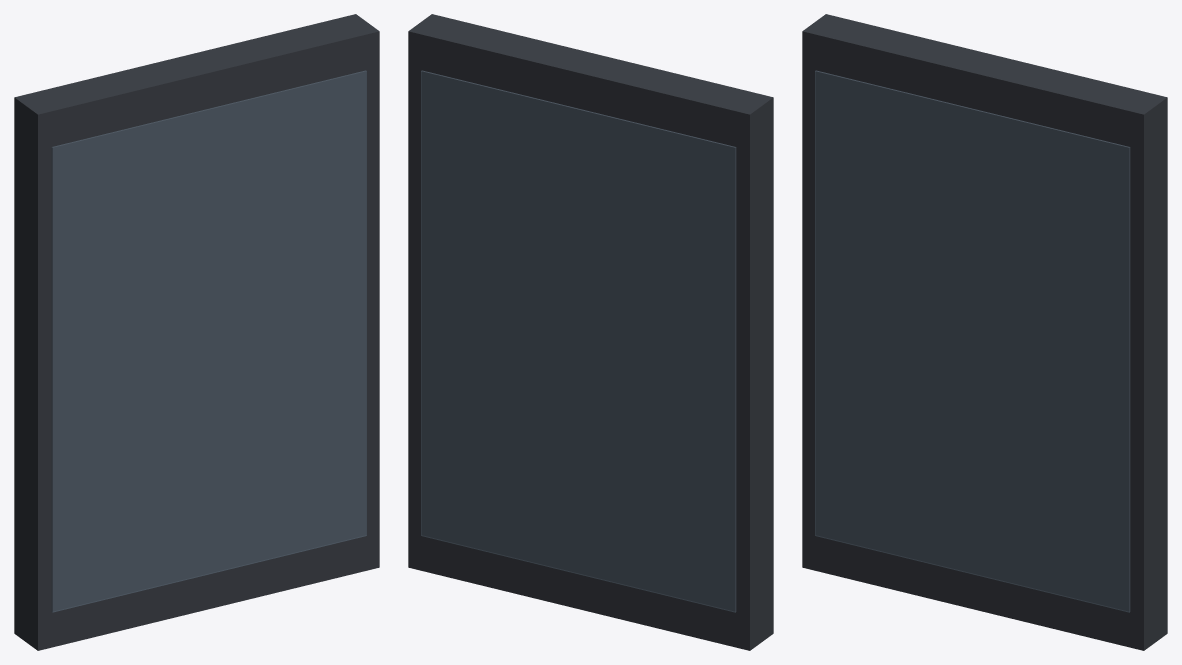
Rendered from one_way_mirror.glb.
3 views of the same model, side by side, from view 1: azimuth 30°, elevation 25°; view 2: azimuth 150°, elevation 25°; view 3: azimuth 330°, elevation 25° (orthographic).
Visible parts, largest first — view 1: one_way_mirror_mesh; view 2: one_way_mirror_mesh; view 3: one_way_mirror_mesh.
Part boxes in pixels (x1=…): one_way_mirror_mesh: x1=14, y1=14, x2=379, y2=650; one_way_mirror_mesh: x1=408, y1=14, x2=773, y2=650; one_way_mirror_mesh: x1=802, y1=14, x2=1167, y2=650.
Bounding box in the file's own units: 1 × 1.5 × 0.13.
